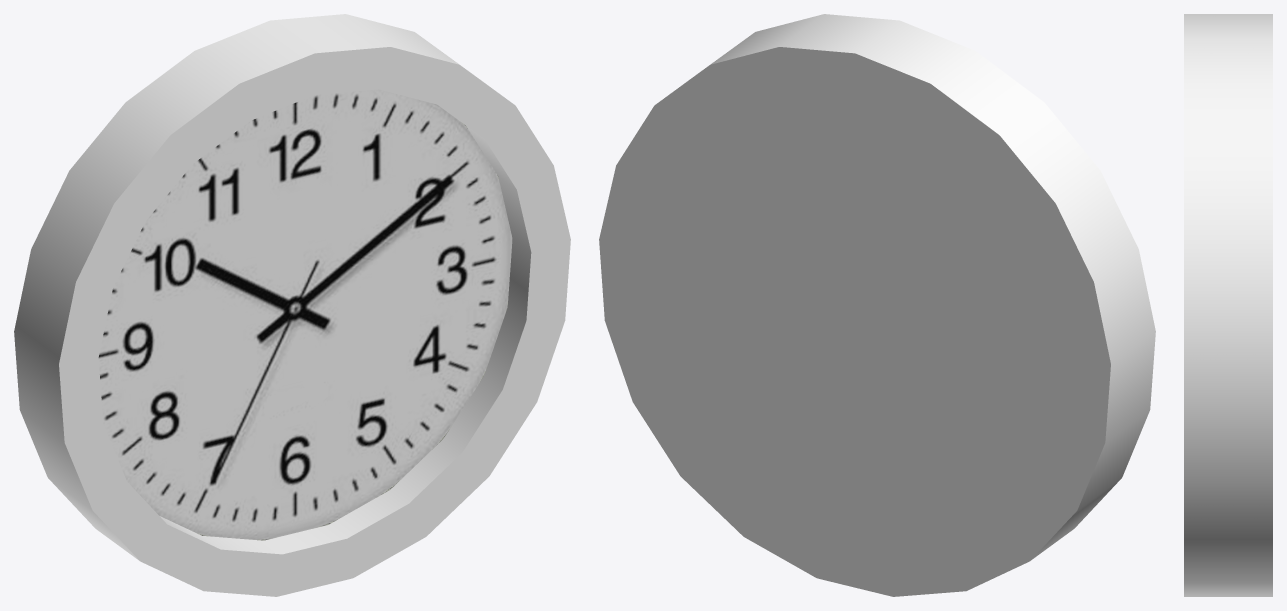
The model's file is Clock.FBX.
3 renders of one model, left to right at view 1: azimuth 30°, elevation 25°; view 2: azimuth 150°, elevation 25°; view 3: azimuth 270°, elevation 25°, orthographic.
Visible parts, largest first — view 1: Clock; view 2: Clock; view 3: Clock.
Boxes of the visible parts, x1,y1,x2,y2 form: Clock: (14, 14, 570, 596); Clock: (599, 14, 1155, 596); Clock: (1184, 14, 1272, 596).
Bounding box in the file's own units: 41.56 × 41.44 × 6.31.
Materials: 1 (1 with a texture image).
